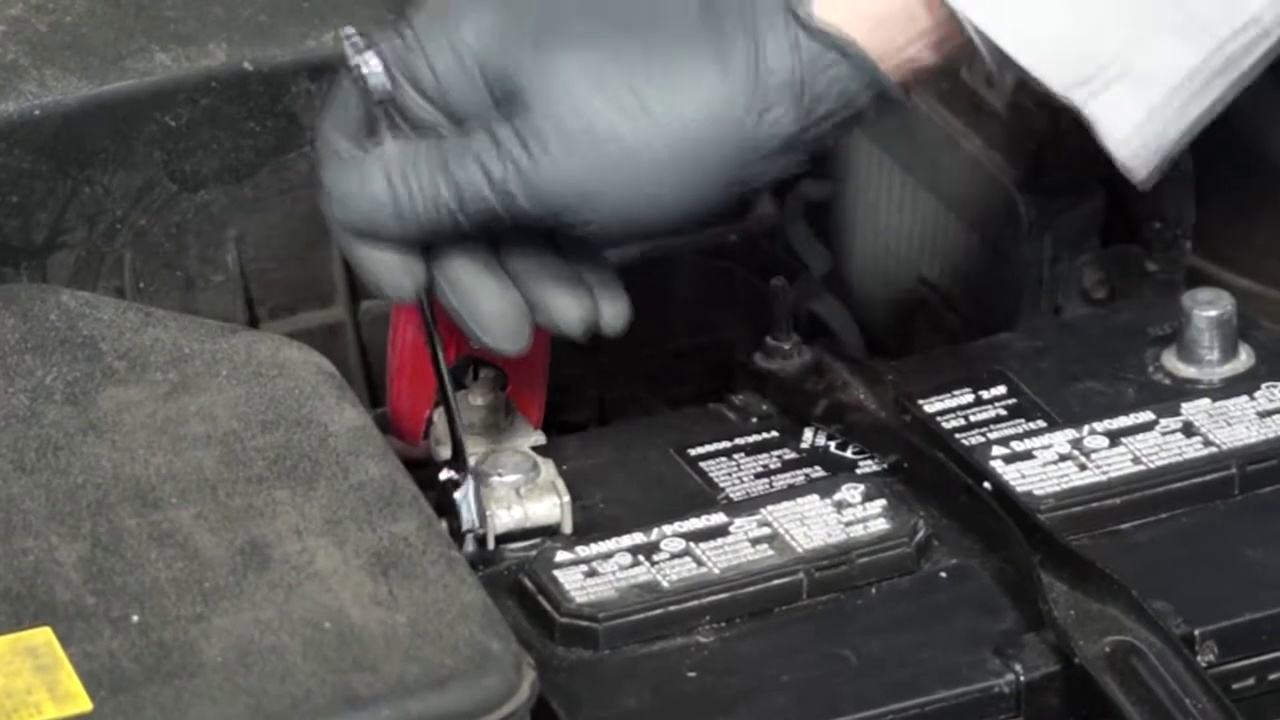battery: (423, 269, 1280, 710)
neg_disconnected: (1104, 244, 1280, 405)
pos_touched: (309, 77, 653, 557)
